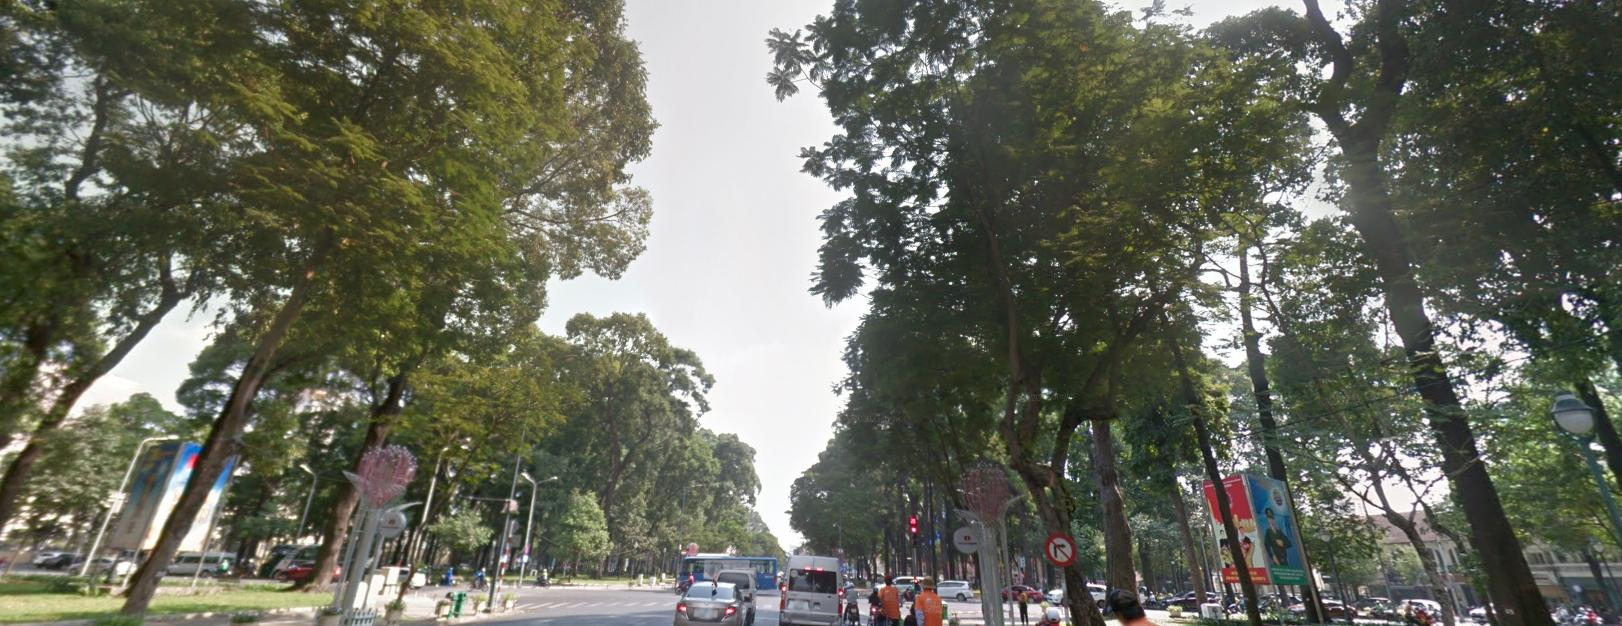Cam re: (1045, 532, 1075, 565)
